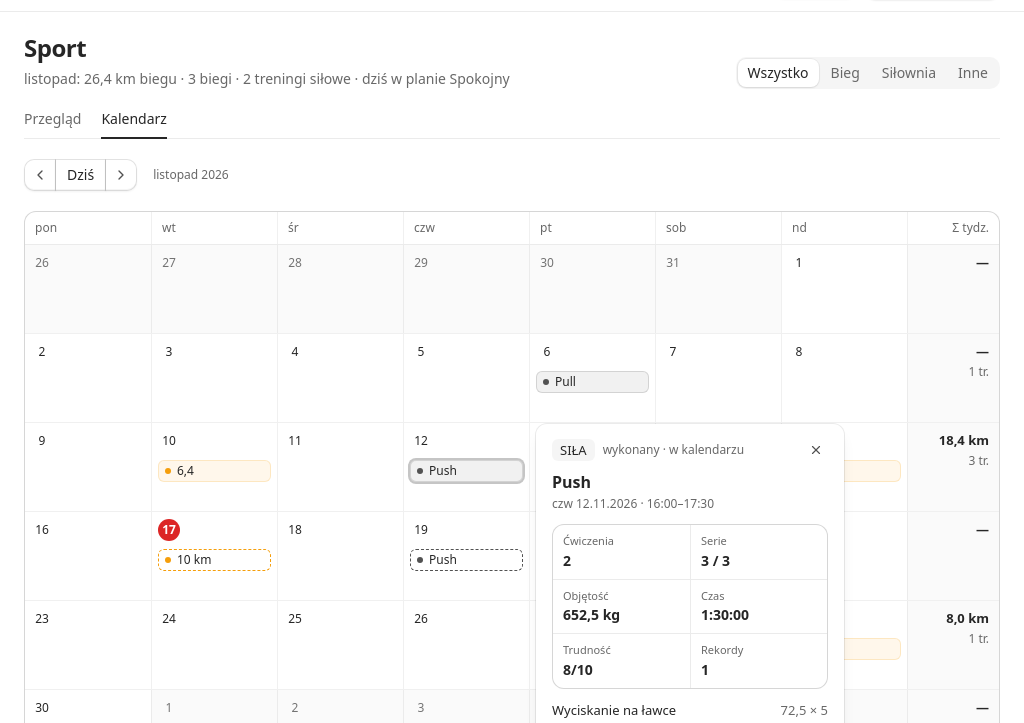
Test: SportView › „Usuń” → „Usunąć trening?” → akcja
Click the tab "Kalendarz".
click(134, 124)  # box [101,109,167,139]
(page scrolled)
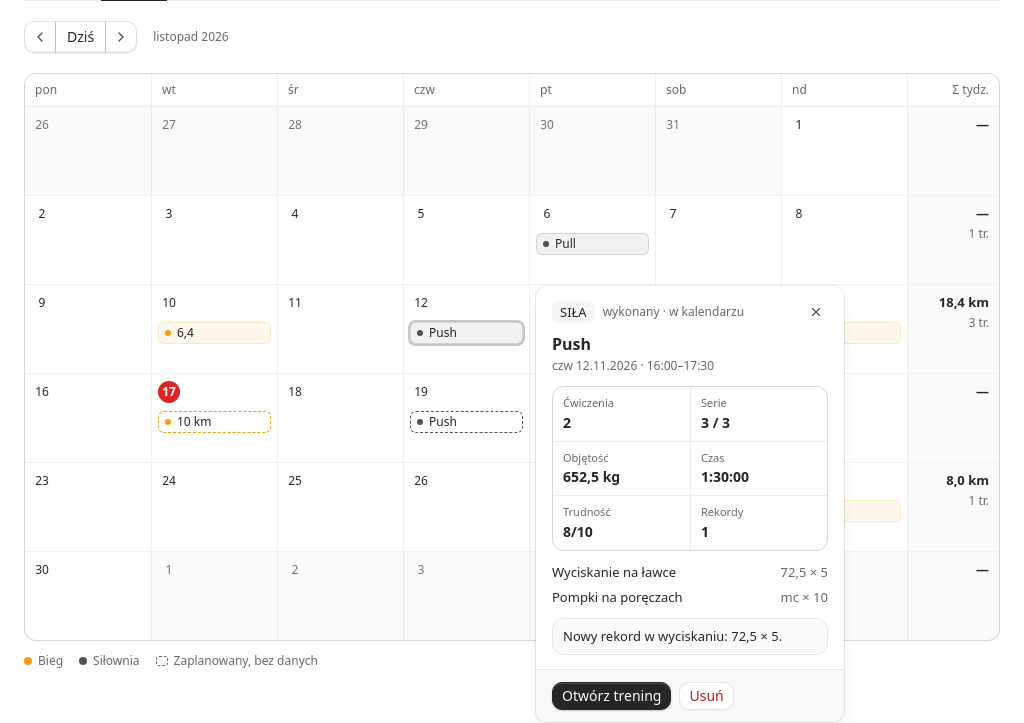
Click the button "Usuń".
click(707, 696)  # box [680,682,734,710]
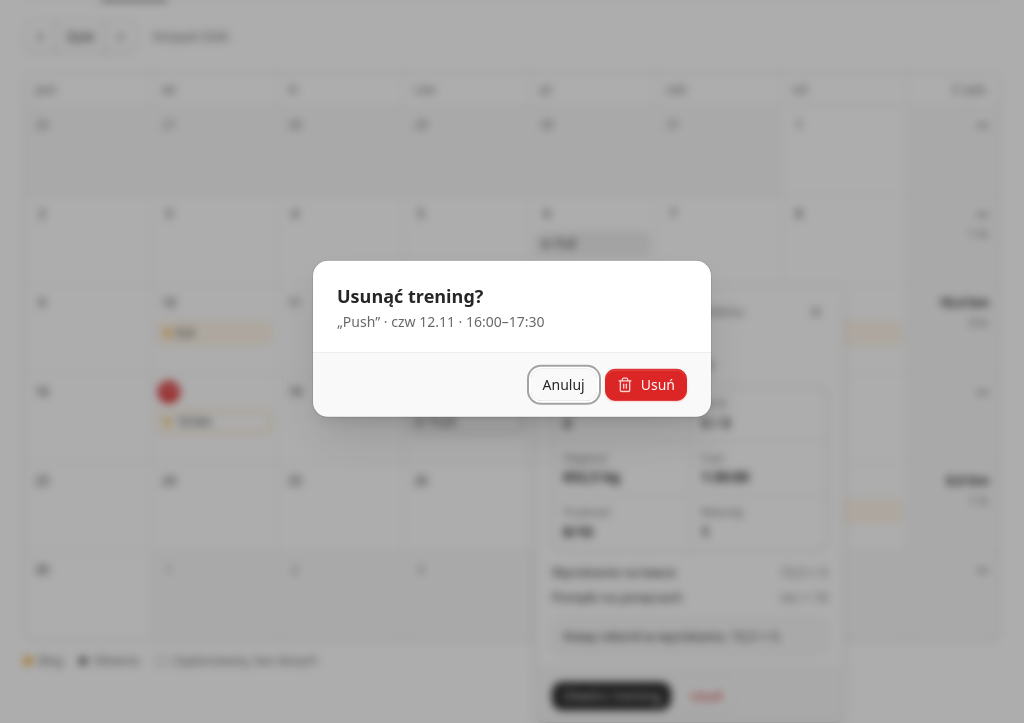
Now the dialog shows "Usunąć trening?", box [337,284,483,308]
Click the button "Usuń".
click(646, 385)  # box [605,369,687,401]
(page scrolled)
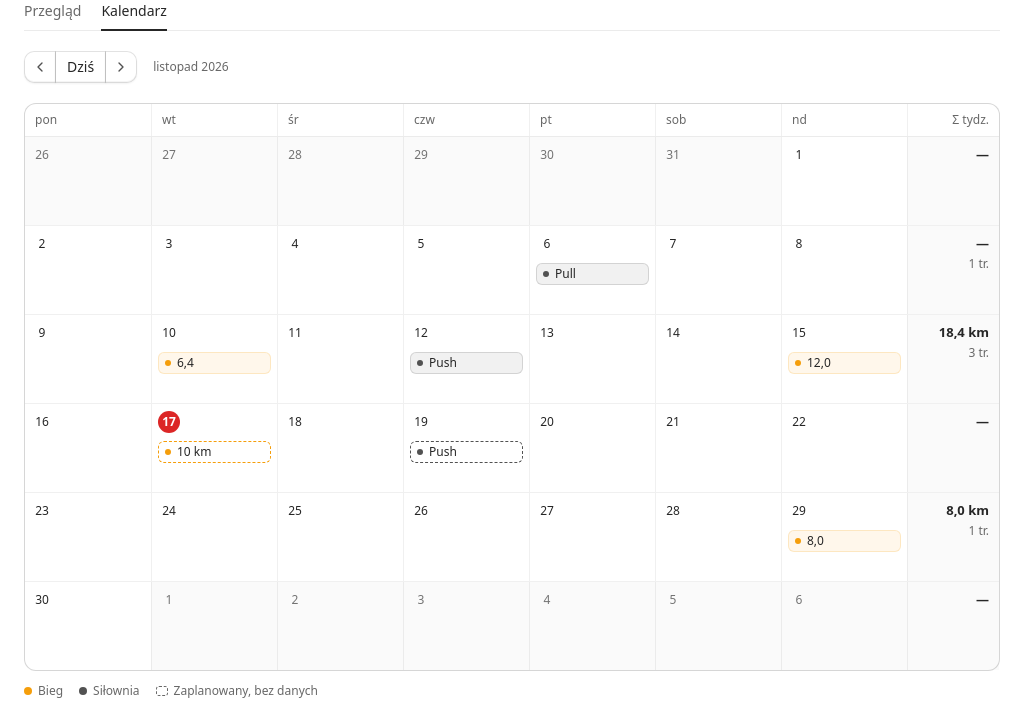
Now the dialog is gone
